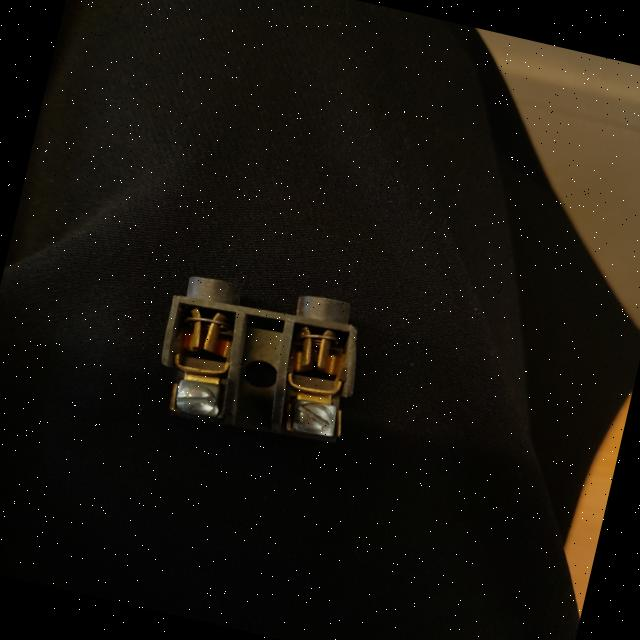Slotted: (286, 396, 338, 438), (172, 379, 220, 419)
